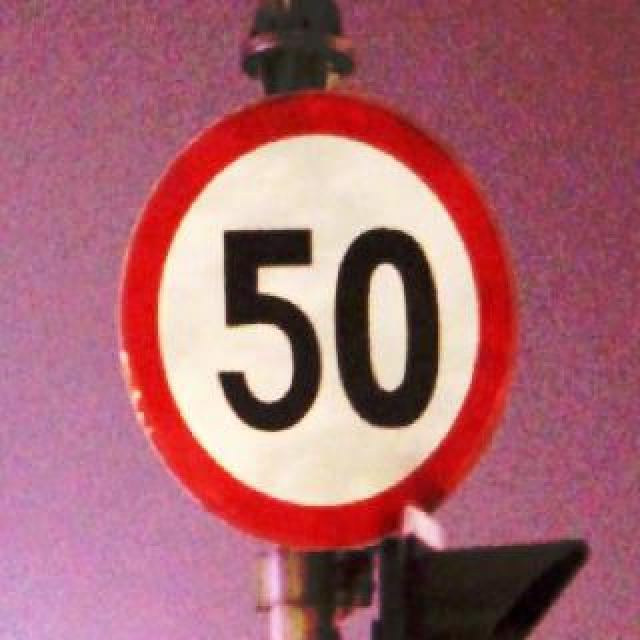50 kph: (114, 88, 516, 548)
